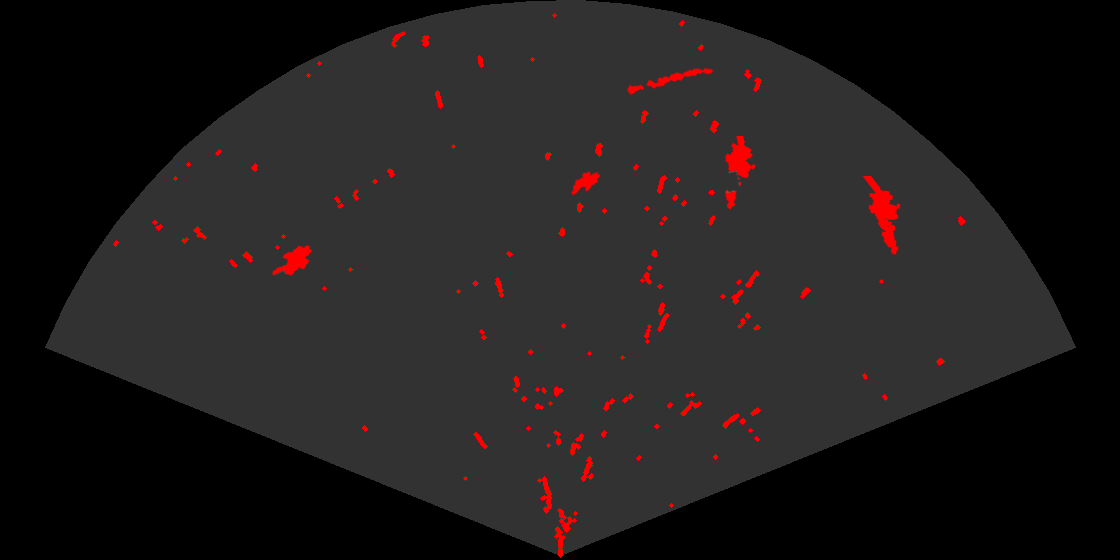AUV: (271, 244, 314, 277), (570, 170, 602, 197)
chain: (624, 66, 715, 96)
frogman: (861, 176, 902, 256), (723, 136, 757, 211)
